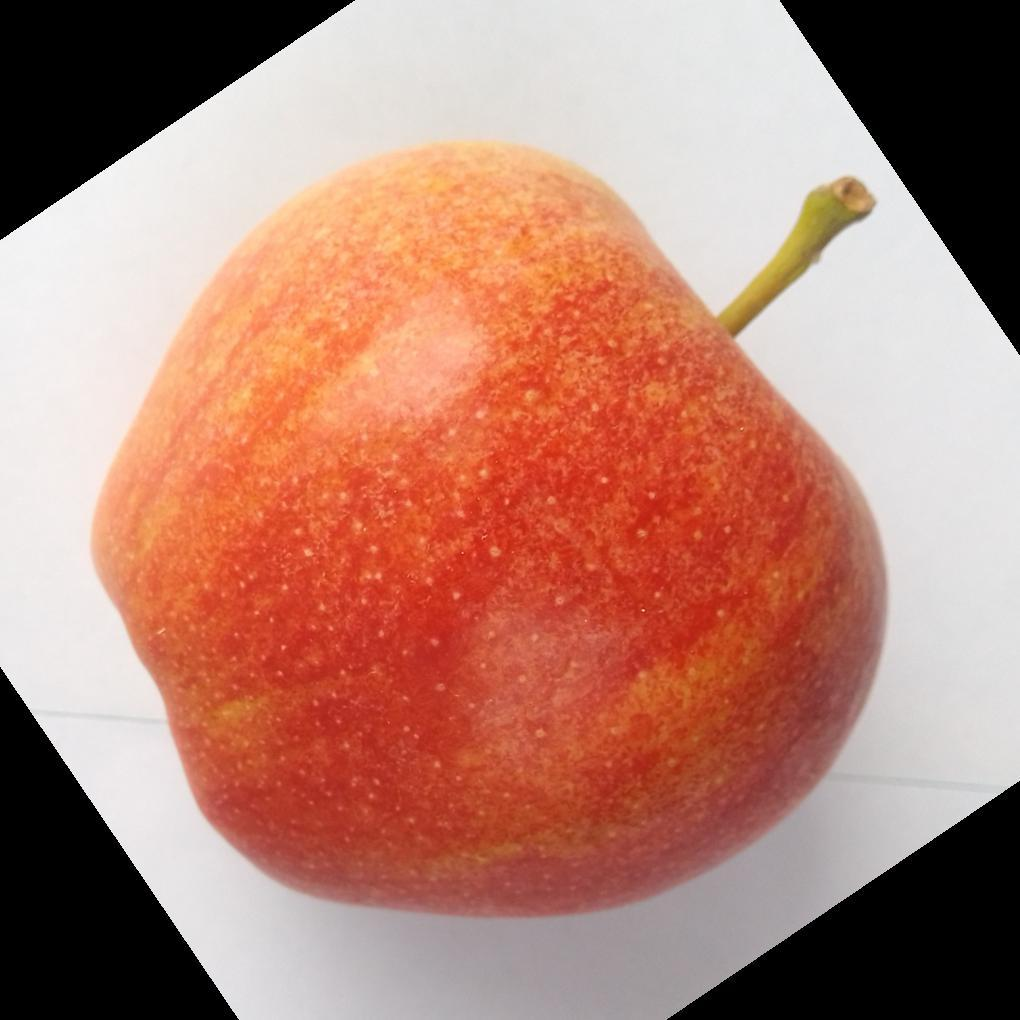FreshGuava: (87, 140, 888, 923)
